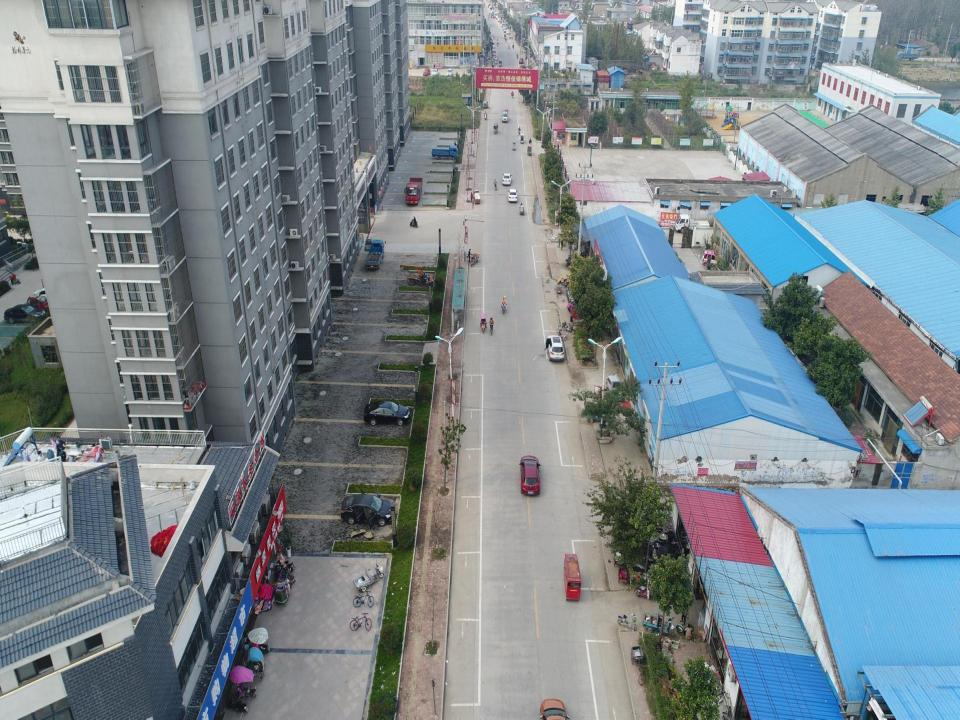car: (340, 490, 395, 528), (362, 399, 410, 427), (518, 453, 544, 499), (1, 302, 48, 326), (32, 287, 59, 309), (544, 334, 564, 362), (507, 188, 519, 203), (502, 172, 513, 186), (446, 68, 454, 78), (422, 68, 430, 77), (431, 69, 439, 77), (519, 58, 525, 64), (506, 29, 511, 35), (503, 26, 507, 33), (502, 25, 506, 30), (501, 22, 505, 27), (497, 18, 500, 22)
truck: (672, 213, 713, 239), (364, 239, 387, 271), (404, 175, 424, 204), (430, 147, 458, 160)
van: (501, 109, 509, 123)
